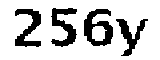2: (10, 6, 43, 53)
5: (46, 5, 80, 50)
6: (83, 6, 115, 54)
y: (116, 15, 151, 60)
